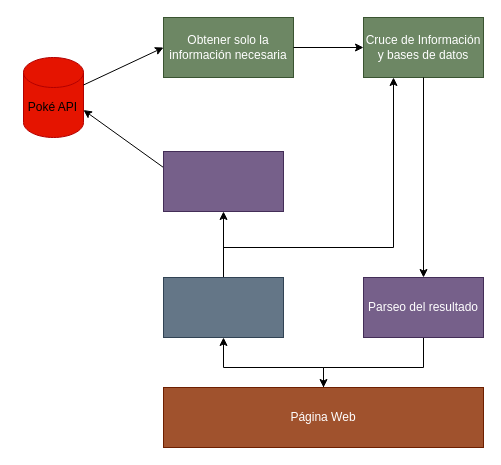
This 501x465 diagram has some shape labels left out. Here are the shapes that lost their labels. From the top down, the box of each, then its label:
(162, 150, 284, 212): Parseo del input en consulta
(162, 276, 284, 338): Input del Usuario
